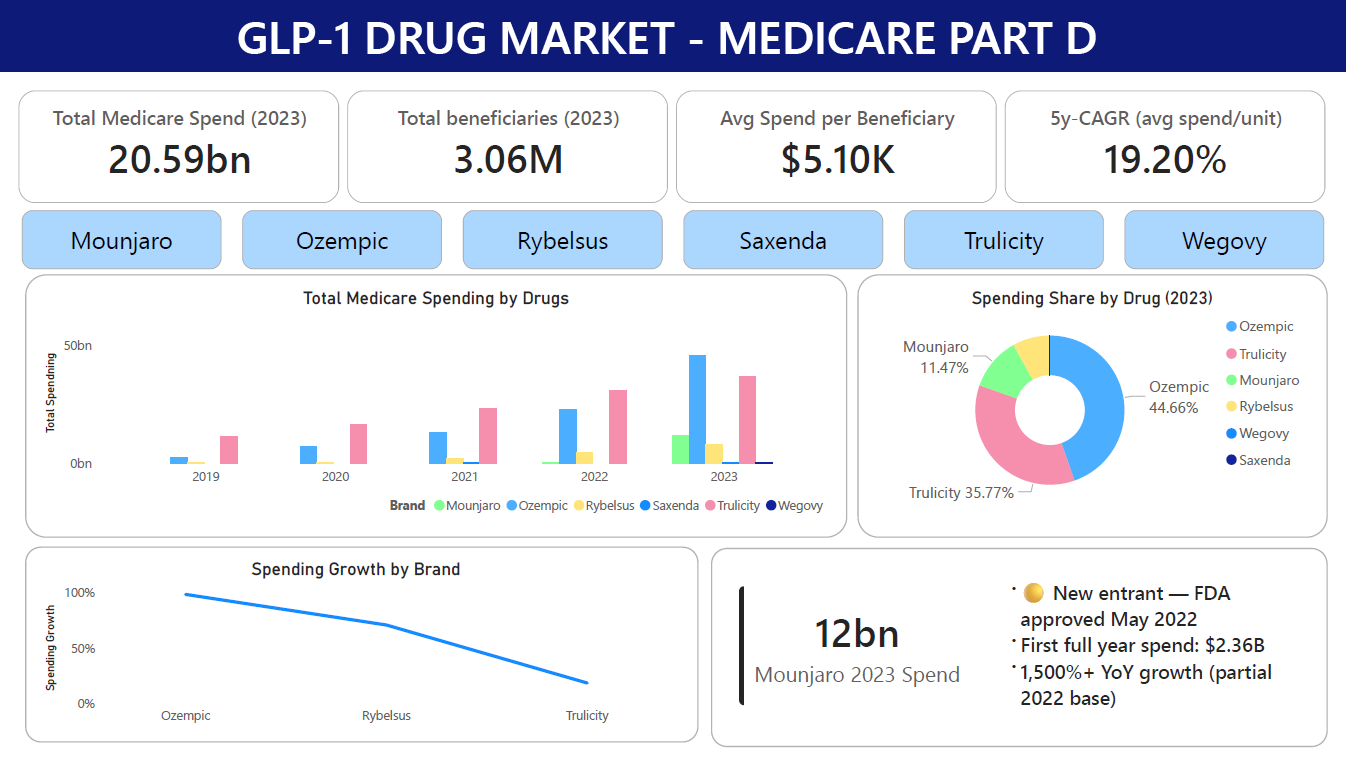

The dashboard page shown, as its layout file describes it:
{"tool":"powerbi","page":{"name":"Page 1","canvas":[1280,720],"ordinal":0},"visuals":[{"type":"shape","box":[0,0,1280.3,67.6],"z":0},{"type":"textbox","box":[0,0,1280.3,67.3],"z":1000},{"type":"cardVisual","fields":{"Data":["Sum(public glp long.Tot_Spndng_2023)","Sum(public glp.Tot_Benes_2023)","Avg(public glp.Avg_Spnd_Per_Bene_2023)","public glp.5Y_CAGR"]},"box":[0,68.3,1280,141.7],"z":2000},{"type":"advancedSlicerVisual","fields":{"Values":["public glp.Brnd_Name"]},"box":[0,193.9,1280.3,66.7],"z":3000},{"type":"shape","box":[23.2,260.5,782.6,250.7],"z":4000},{"type":"clusteredColumnChart","title":"Total Medicare Spending by Drugs","fields":{"Series":["public glp long (2).Brnd_Name"],"Category":["public glp long (2).Year"],"Y":["Sum(public glp long (2).Tot_Spndng)"]},"box":[36.7,272.7,755.7,226.2],"z":5000},{"type":"shape","box":[815.6,260.5,447.6,250.7],"z":6000},{"type":"donutChart","title":"Spending Share by Drug (2023) ","fields":{"Category":["public glp.Brnd_Name"],"Y":["Sum(public glp long.Tot_Spndng_2023)"]},"box":[826.6,272.7,424.3,215.2],"z":7000},{"type":"shape","box":[22.7,519.7,640.9,186.4],"z":8000},{"type":"lineChart","fields":{"Category":["public glp long (2).Brnd_Name"],"Y":["public glp long (2).YoY Spending Growth"]},"box":[36.4,530.3,603,168.2],"z":9000},{"type":"shape","box":[676.2,520.9,587,189.5],"z":10000},{"type":"textbox","box":[947.7,545.4,303.3,139.4],"z":11000},{"type":"cardVisual","fields":{"Data":["public glp long (2).Mounjaro_2023_Spend"]},"box":[686,540.5,259.2,148],"z":12000}]}

Visuals, with their boxes in screenshot pixels (x1, y1, x2, y2), scaled from the page's 1280x720 canvas onto the 1346x763 screenshot:
shape: [0,0,1345,72]
textbox: [0,0,1345,71]
cardVisual - Sum(public glp long.Tot_Spndng_2023) x Sum(public glp.Tot_Benes_2023): [0,72,1345,223]
advancedSlicerVisual - public glp.Brnd_Name: [0,205,1345,276]
shape: [24,276,847,542]
"Total Medicare Spending by Drugs" clusteredColumnChart: [39,289,833,529]
shape: [858,276,1328,542]
"Spending Share by Drug (2023) " donutChart: [869,289,1315,517]
shape: [24,551,698,748]
lineChart - public glp long (2).Brnd_Name x public glp long (2).YoY Spending Growth: [38,562,672,740]
shape: [711,552,1328,753]
textbox: [997,578,1316,726]
cardVisual - public glp long (2).Mounjaro_2023_Spend: [721,573,994,730]
